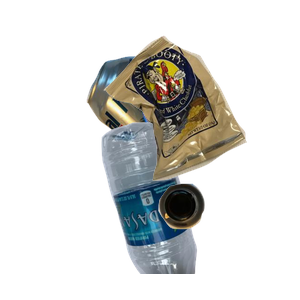glass: (156, 181, 300, 300)
metal: (84, 53, 279, 202)
plastic: (99, 120, 289, 300)
trash: (101, 33, 300, 206)
